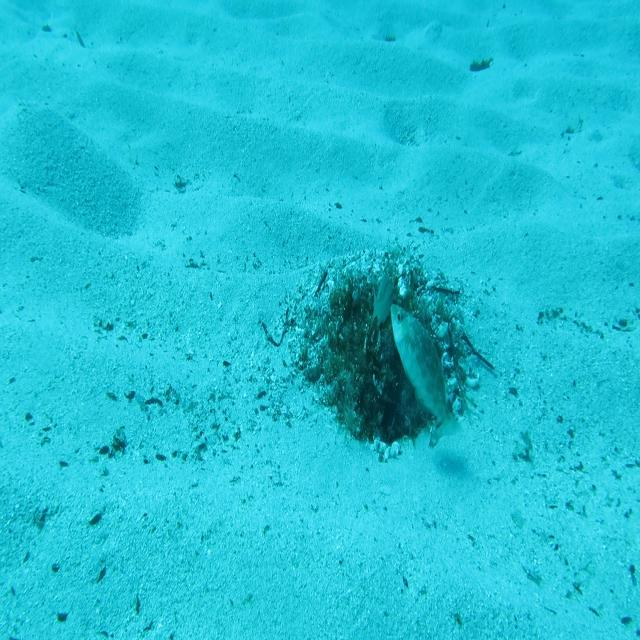GB: (389, 300, 464, 442)
core_nest: (352, 290, 401, 344)
female: (367, 270, 395, 330)
nest: (274, 222, 490, 476)
vegetation: (468, 52, 494, 78)
